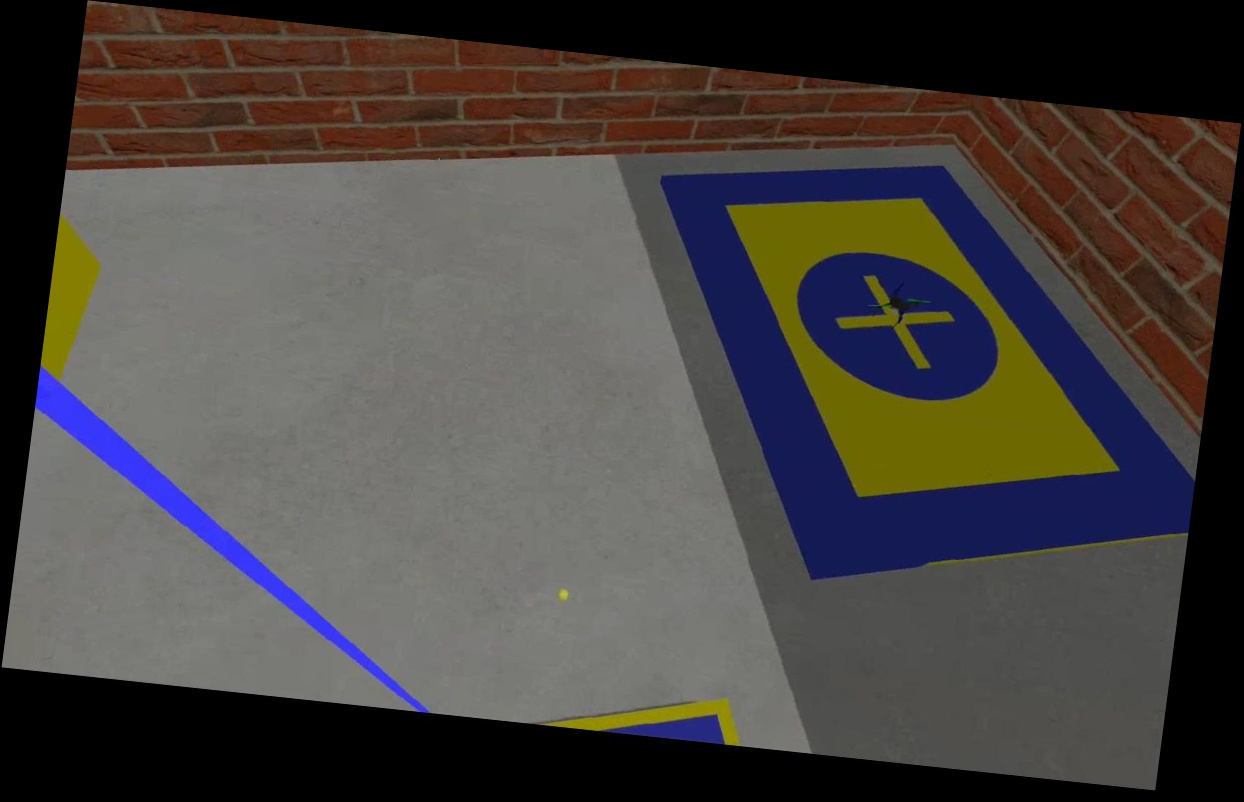large_base: (612, 134, 1234, 622)
